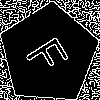F: (24, 29, 77, 79)
